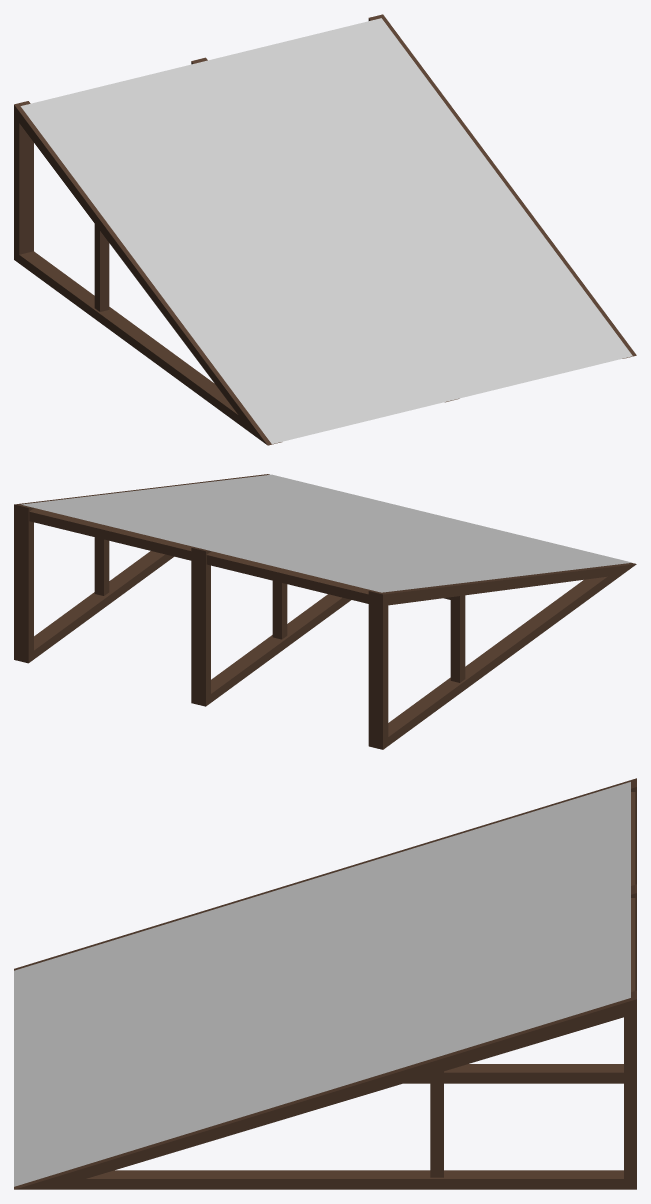
Rendered from SM_Prop_Ramp_Mesh_01.fbx.
3 views of the same model, one above another, from view 1: azimuth 30°, elevation 25°; view 2: azimuth 150°, elevation 25°; view 3: azimuth 270°, elevation 25° (orthographic). The views are drawn at different scales.
Visible parts, largest first — view 1: SM_Prop_Ramp_Mesh_01; view 2: SM_Prop_Ramp_Mesh_01; view 3: SM_Prop_Ramp_Mesh_01.
Part boxes in pixels (bbox=[...]): SM_Prop_Ramp_Mesh_01: bbox=[14, 14, 636, 445]; SM_Prop_Ramp_Mesh_01: bbox=[14, 474, 636, 749]; SM_Prop_Ramp_Mesh_01: bbox=[14, 778, 636, 1189].
Size of the model in its own units: 584 by 235 by 696.
